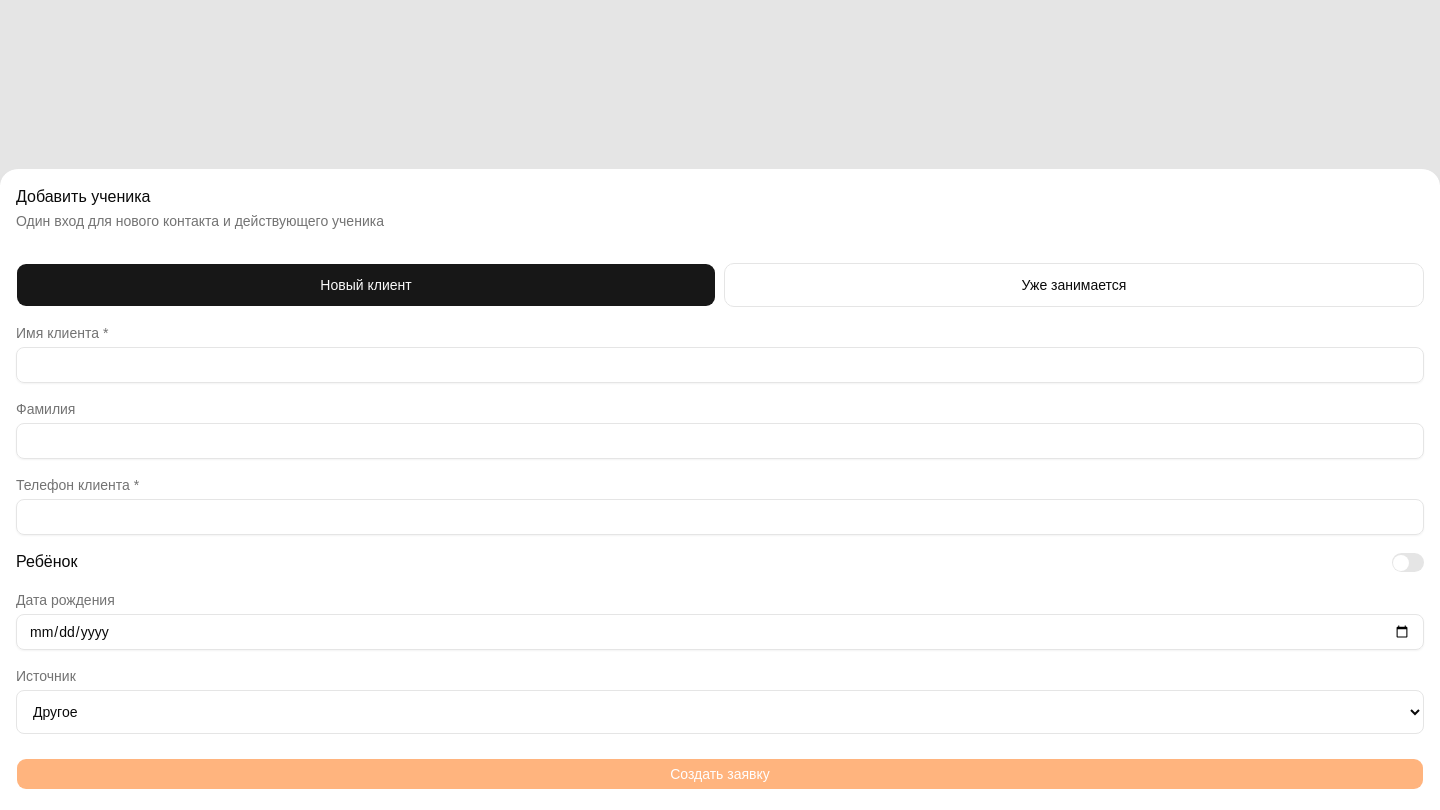
Test: ClientIntakeSheet › creates an existing child student with a distinct mode receipt
This screenshot has width=1440, height=810.
Step 1. Click the radio button labelled "Уже занимается" → [1074, 285], box top-left (724, 263), bottom-right (1424, 307)
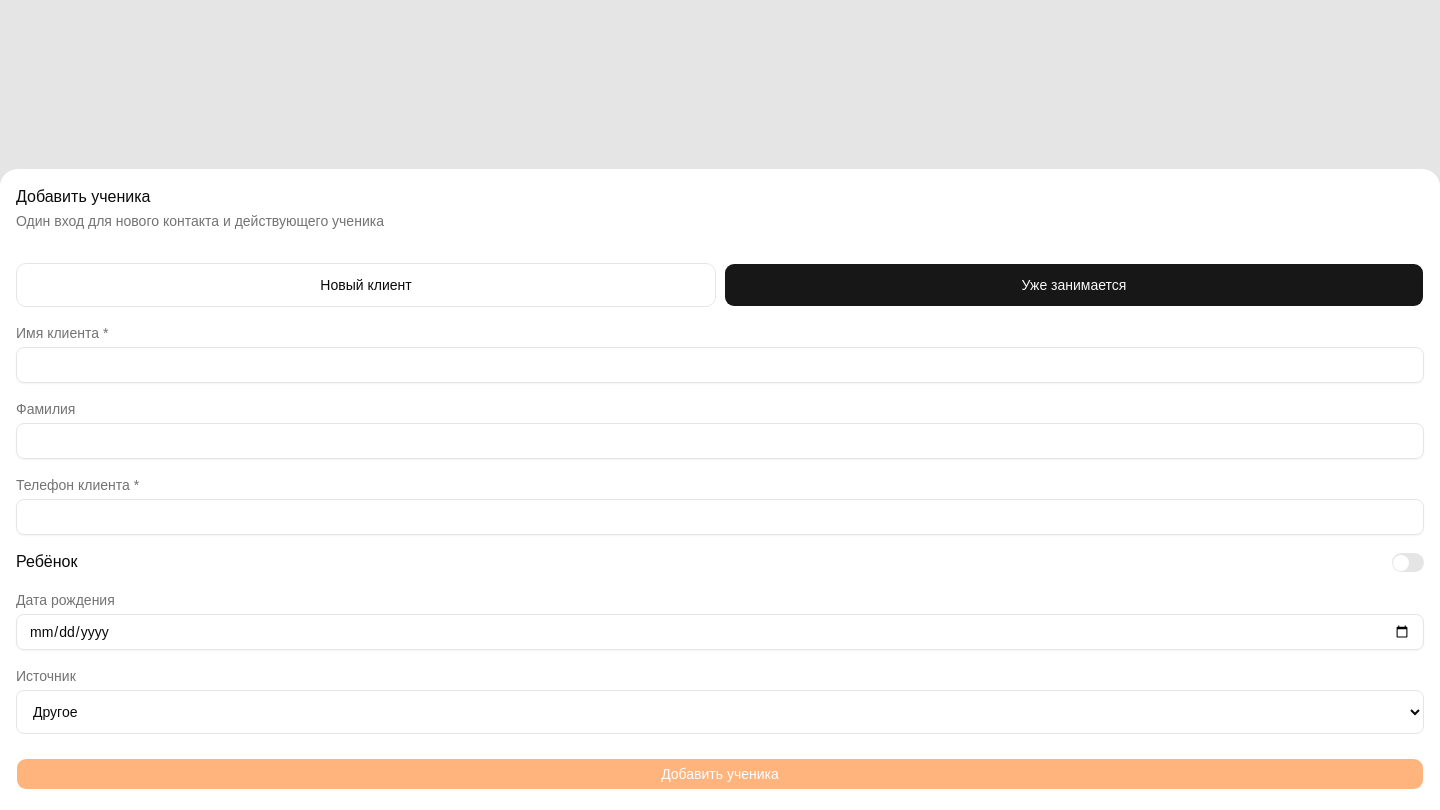
Step 2. Click the switch → [1408, 563], box top-left (1392, 553), bottom-right (1424, 572)
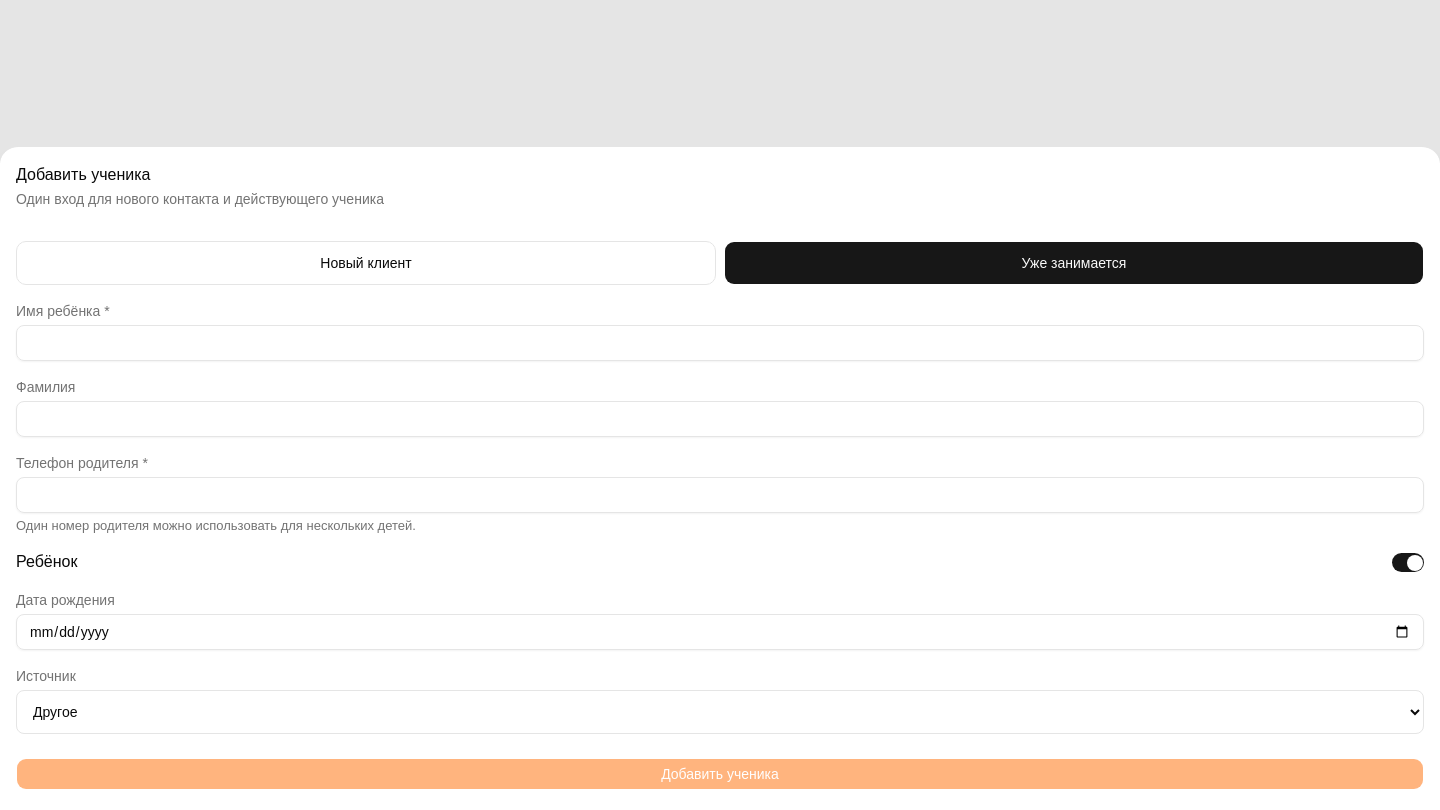
Step 3. Type "Маша" into the field labelled "Имя ребёнка *" → [720, 343], box top-left (16, 325), bottom-right (1424, 361)
Step 4. Type "Петрова" into the field labelled "Фамилия" → [720, 419], box top-left (16, 401), bottom-right (1424, 437)
Step 5. Type "2018-04-05" into the date field labelled "Дата рождения" → [720, 632], box top-left (16, 614), bottom-right (1424, 650)
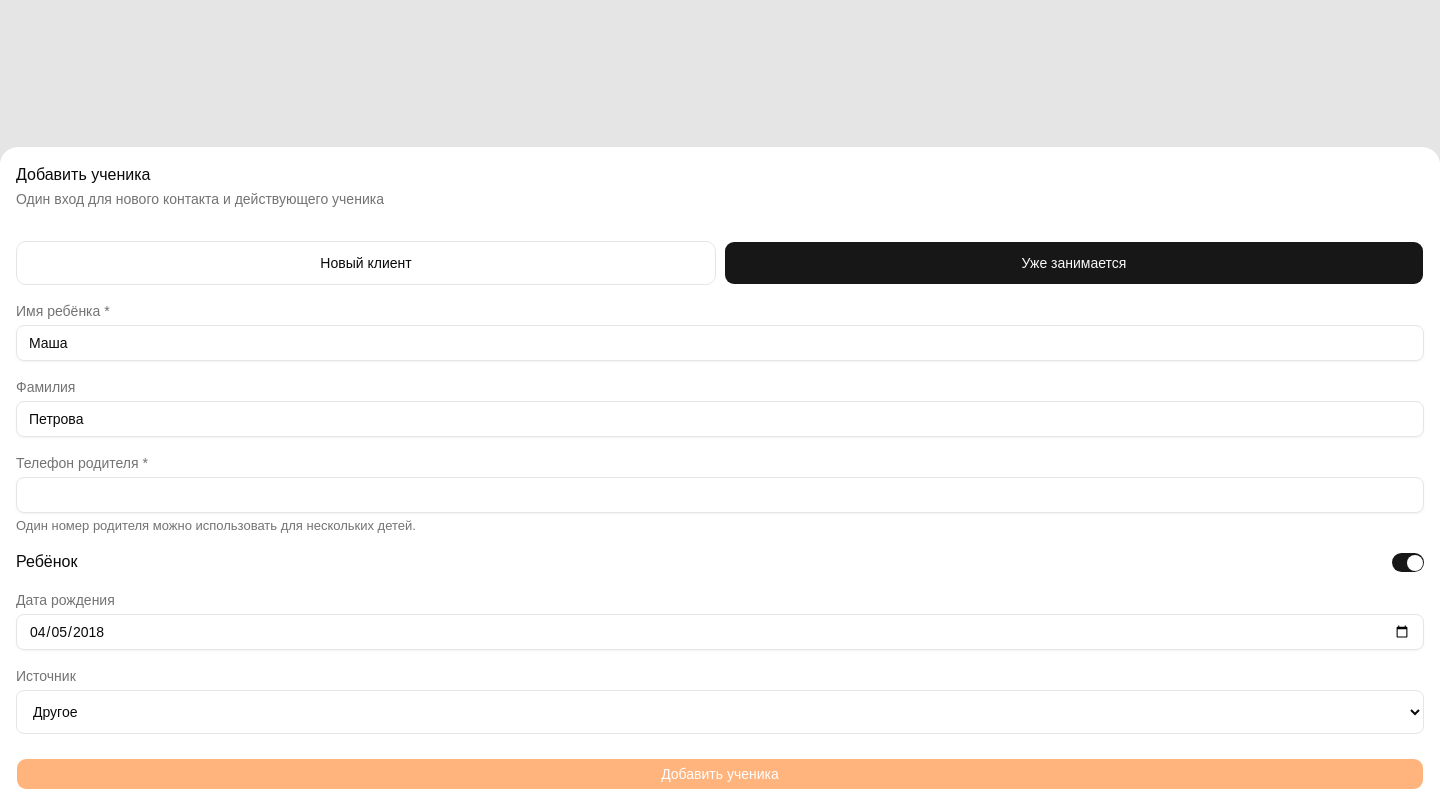
Step 6. Select "Рекомендация" in the dropdown labelled "Источник" → [720, 712], box top-left (16, 690), bottom-right (1424, 734)
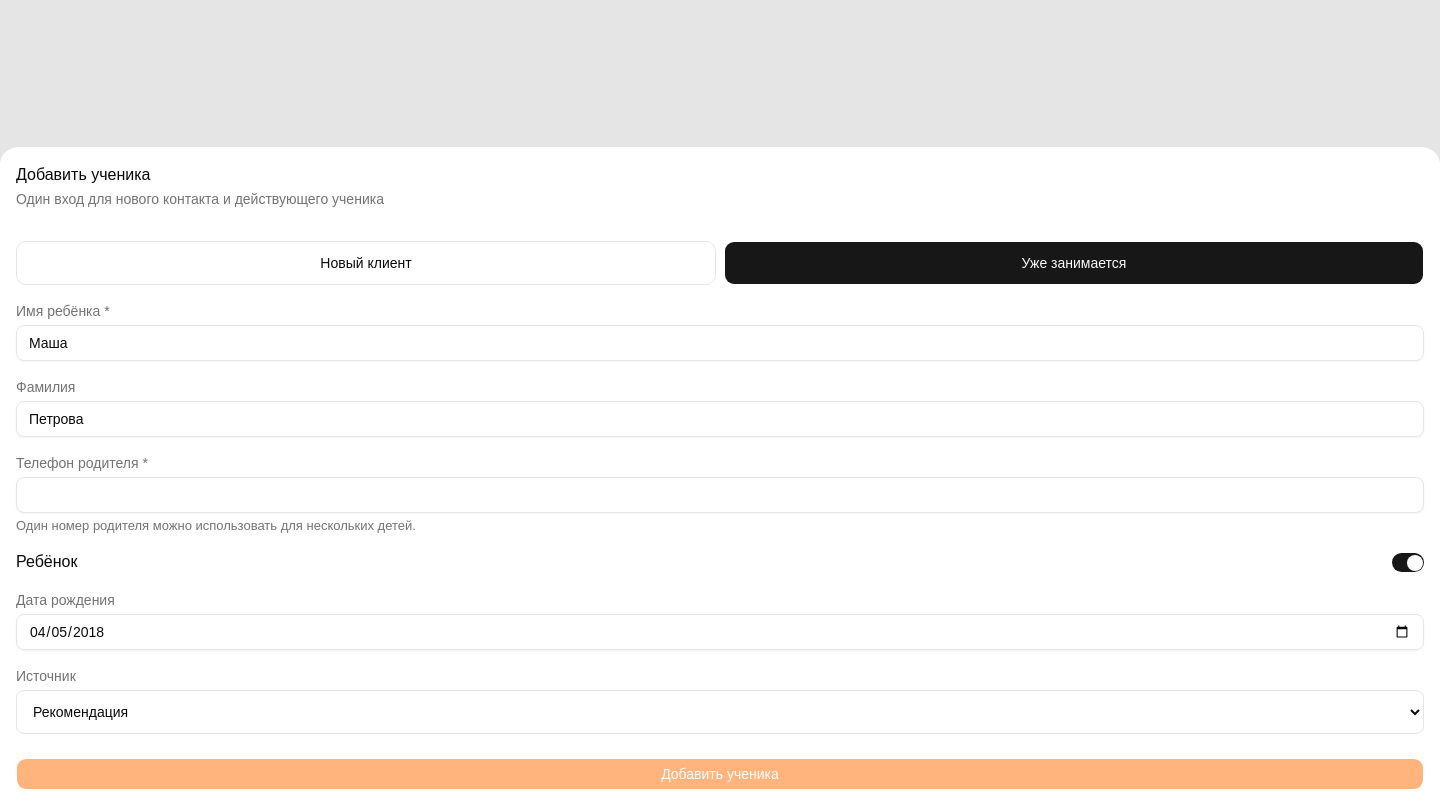
Step 7. Type "+7 900 222-33-44" into the field labelled "Телефон родителя *" → [720, 495], box top-left (16, 477), bottom-right (1424, 513)
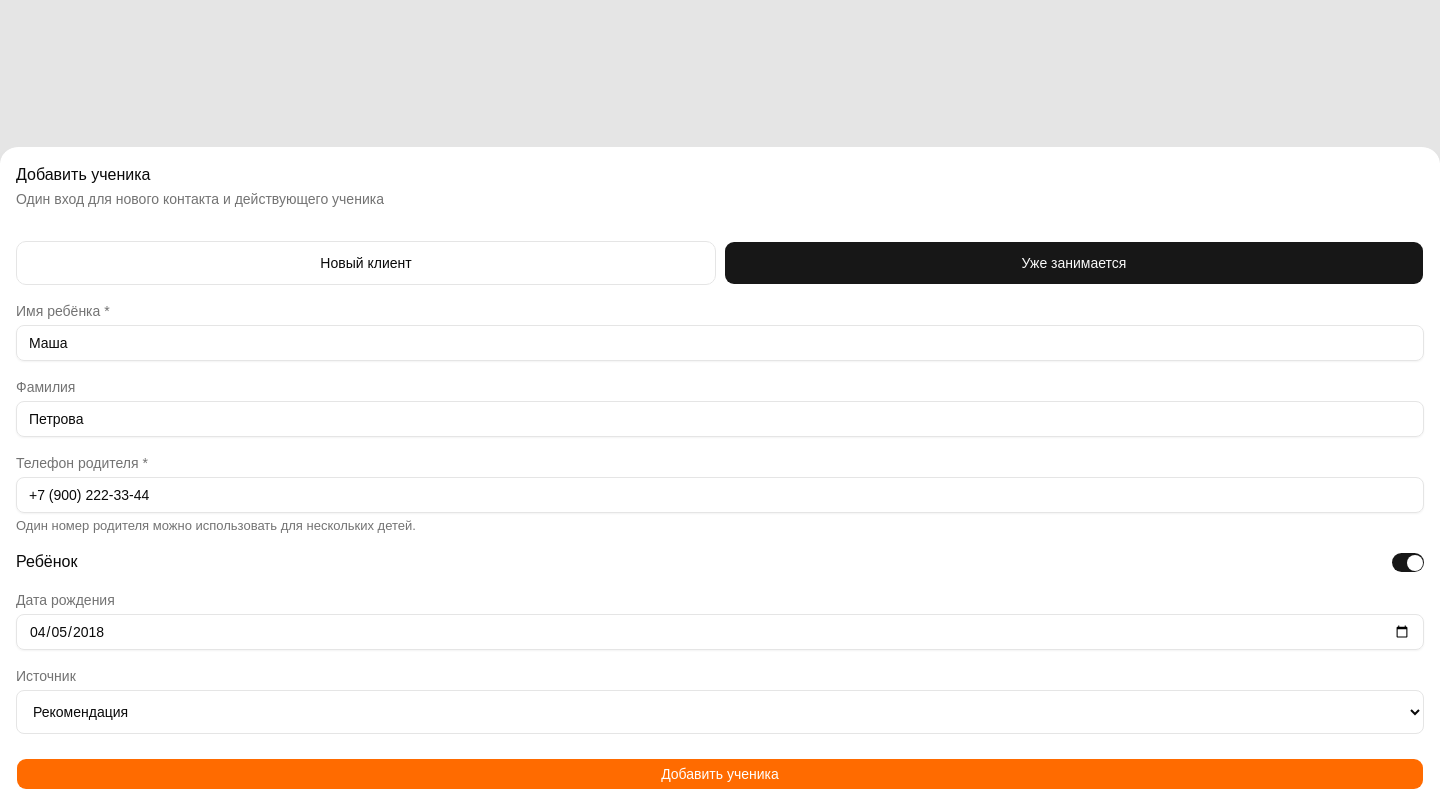
Step 8. Click the button "Добавить ученика" → [720, 774], box top-left (16, 758), bottom-right (1424, 790)
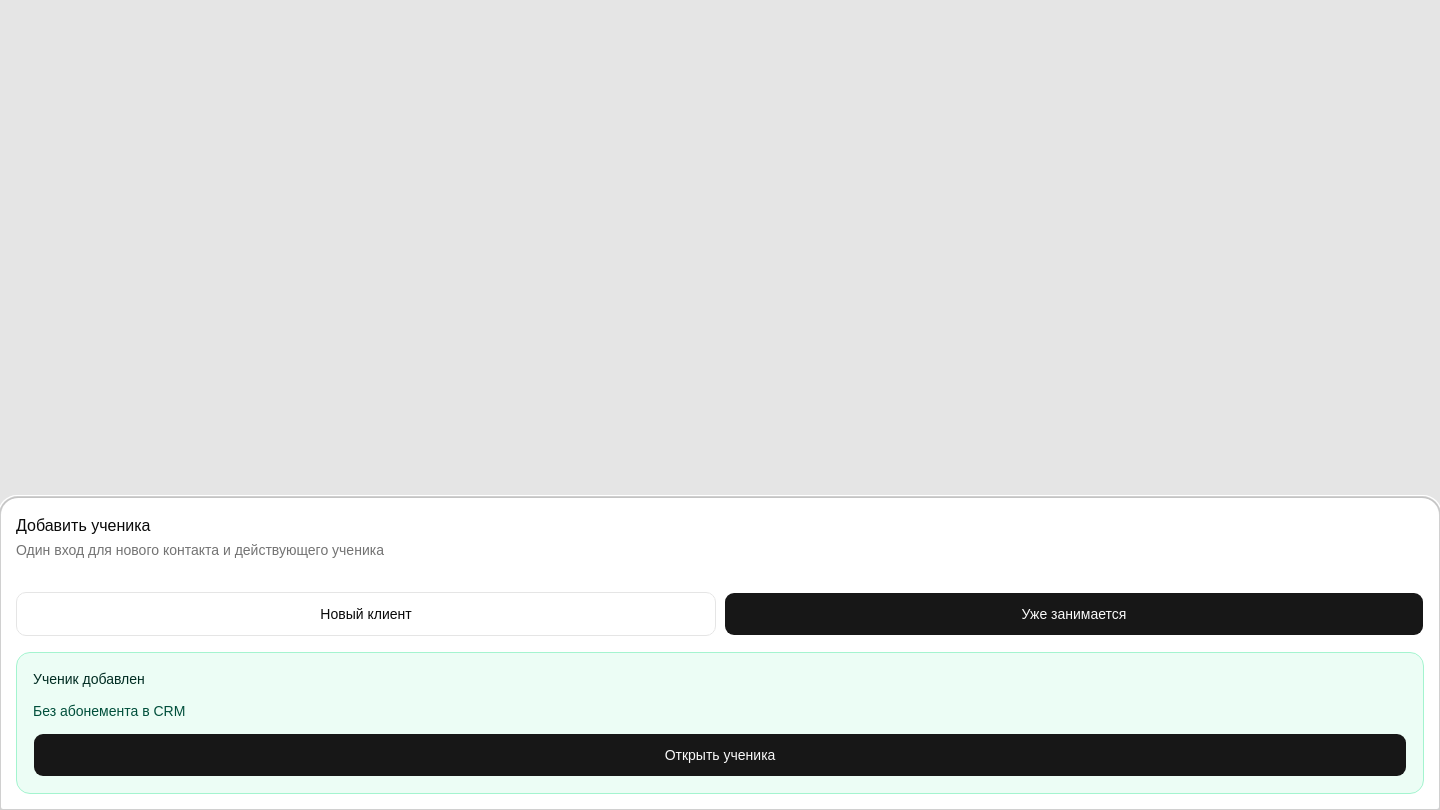
expect the text "Ученик добавлен" is shown: met, box top-left (33, 671), bottom-right (145, 687)
expect the text "Без абонемента в CRM" is shown: met, box top-left (33, 703), bottom-right (185, 719)
